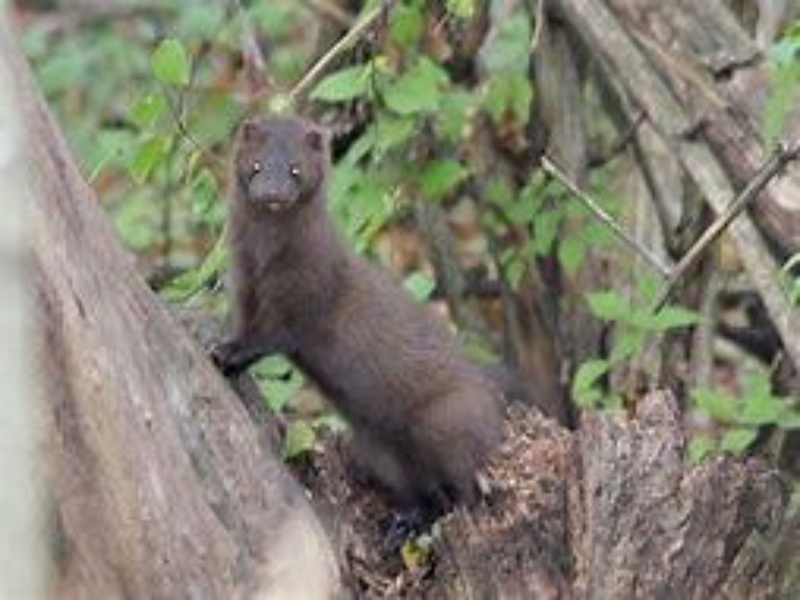minkish: (206, 110, 504, 522)
